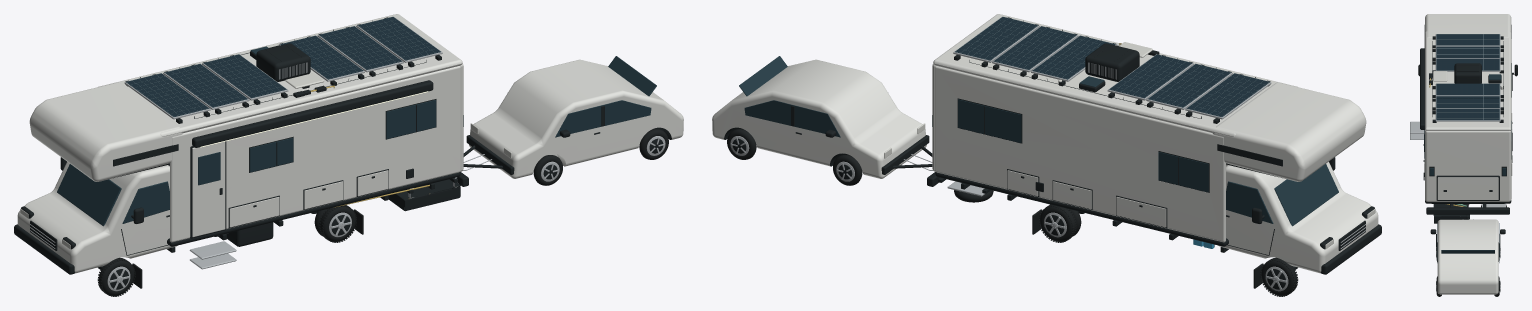
Rendered from Alita-22NFT.glb.
3 views of the same model, side by side, from view 1: azimuth 30°, elevation 25°; view 2: azimuth 150°, elevation 25°; view 3: azimuth 270°, elevation 25° (orthographic). The views are drawn at different scales.
Parts seen in each view (by area): view 1: Passenger fiberglass wall, Generic small hatchback body, Rounded cab-over fiberglass, Transit cab sculpted envelope, Rounded roof, 16 foot awning cassette, Entry door, Sloped windshield, Hatch side glazing, 18K heat pump shroud, Coach insulated floor, Tinted window glazing.003 (+19 smaller); view 2: Driver fiberglass wall, Generic small hatchback body, Rounded cab-over fiberglass, Transit cab sculpted envelope, Rounded roof, Sloped windshield, Tinted window glazing.001, Hatch side glazing.001, 18K heat pump shroud, Coach insulated floor, Tinted window glazing, Cab side glass.001 (+11 smaller); view 3: Generic small hatchback body, Moulded rear cap, Rounded roof, Rounded cab-over fiberglass, Rear cargo hatch, Rear lower bumper, 18K heat pump shroud, 16 foot awning cassette, Rear cargo access frame, Panel 4 cell laminate, Hatch backlight, Panel 3 cell laminate (+18 smaller).
Boxes of the visible parts, x1,y1,x2,y2 form: Passenger fiberglass wall: [170, 66, 460, 242]; Generic small hatchback body: [469, 59, 683, 178]; Rounded cab-over fiberglass: [29, 82, 183, 181]; Transit cab sculpted envelope: [17, 162, 177, 273]; Rounded roof: [98, 14, 462, 136]; 16 foot awning cassette: [192, 80, 433, 147]; Entry door: [192, 141, 225, 237]; Sloped windshield: [57, 164, 121, 226]; Hatch side glazing: [555, 100, 651, 137]; 18K heat pump shroud: [256, 43, 310, 81]; Coach insulated floor: [167, 172, 460, 246]; Tinted window glazing.003: [386, 100, 436, 138]; Driver fiberglass wall: [935, 66, 1225, 242]; Generic small hatchback body: [712, 59, 926, 178]; Rounded cab-over fiberglass: [1212, 82, 1366, 181]; Transit cab sculpted envelope: [1218, 162, 1378, 273]; Rounded roof: [933, 14, 1297, 136]; Sloped windshield: [1274, 164, 1338, 226]; Tinted window glazing.001: [958, 99, 1021, 142]; Hatch side glazing.001: [744, 100, 840, 137]; 18K heat pump shroud: [1085, 43, 1139, 81]; Coach insulated floor: [935, 172, 1228, 246]; Tinted window glazing: [1158, 152, 1208, 192]; Cab side glass.001: [1226, 181, 1273, 223]; Generic small hatchback body: [1437, 219, 1498, 294]; Moulded rear cap: [1425, 131, 1511, 201]; Rounded roof: [1425, 31, 1511, 130]; Rounded cab-over fiberglass: [1425, 14, 1511, 37]; Rear cargo hatch: [1437, 177, 1498, 199]; Rear lower bumper: [1426, 207, 1509, 214]; 18K heat pump shroud: [1454, 63, 1481, 83]; 16 foot awning cassette: [1420, 48, 1424, 129]; Rear cargo access frame: [1436, 175, 1499, 200]; Panel 4 cell laminate: [1436, 83, 1499, 95]; Hatch backlight: [1441, 250, 1494, 253]; Panel 3 cell laminate: [1436, 59, 1499, 70].
Bounding box in the file's own units: 12.68 × 3.43 × 2.89.
